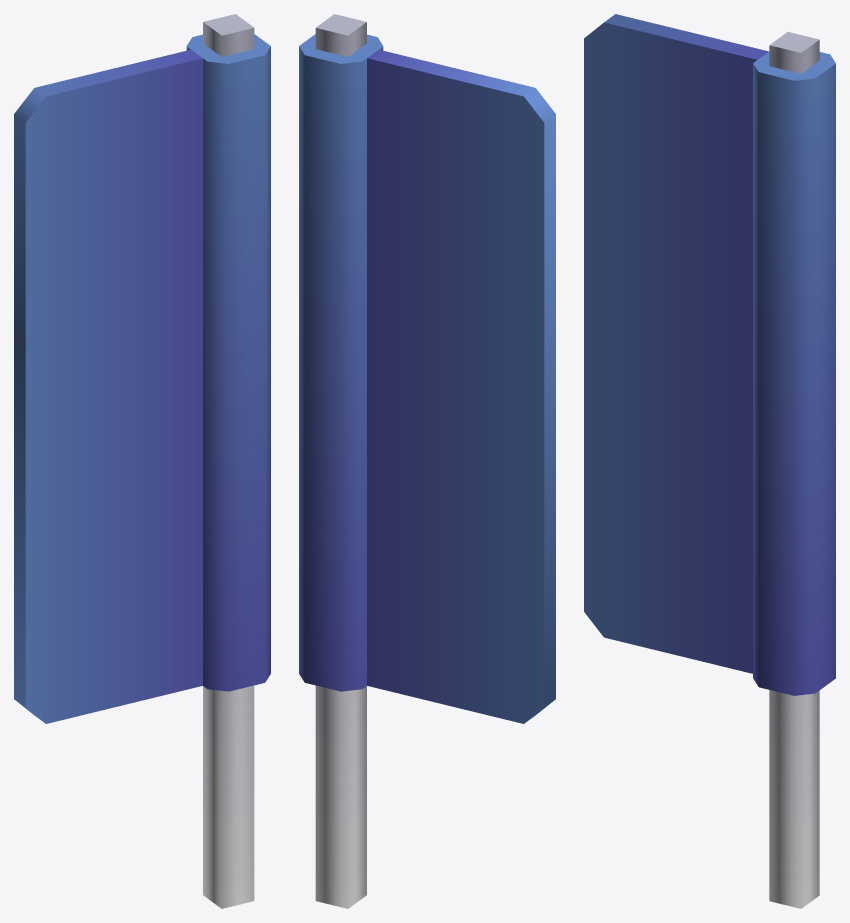
File: flag-large-blue.glb
The picture shows the model from 3 angles, left to right: view 1: azimuth 30°, elevation 25°; view 2: azimuth 150°, elevation 25°; view 3: azimuth 330°, elevation 25°; orthographic projection. The views are drawn at different scales.
Visible parts, largest first — view 1: flag-large-blue; view 2: flag-large-blue; view 3: flag-large-blue.
Part boxes in pixels (x1,y1,x2,y2): flag-large-blue: (14, 14, 270, 908); flag-large-blue: (299, 14, 555, 908); flag-large-blue: (584, 14, 835, 908).
Bounding box in the file's own units: 0.2955 × 1.02 × 0.0781.
Materials: 1 (1 with a texture image).
